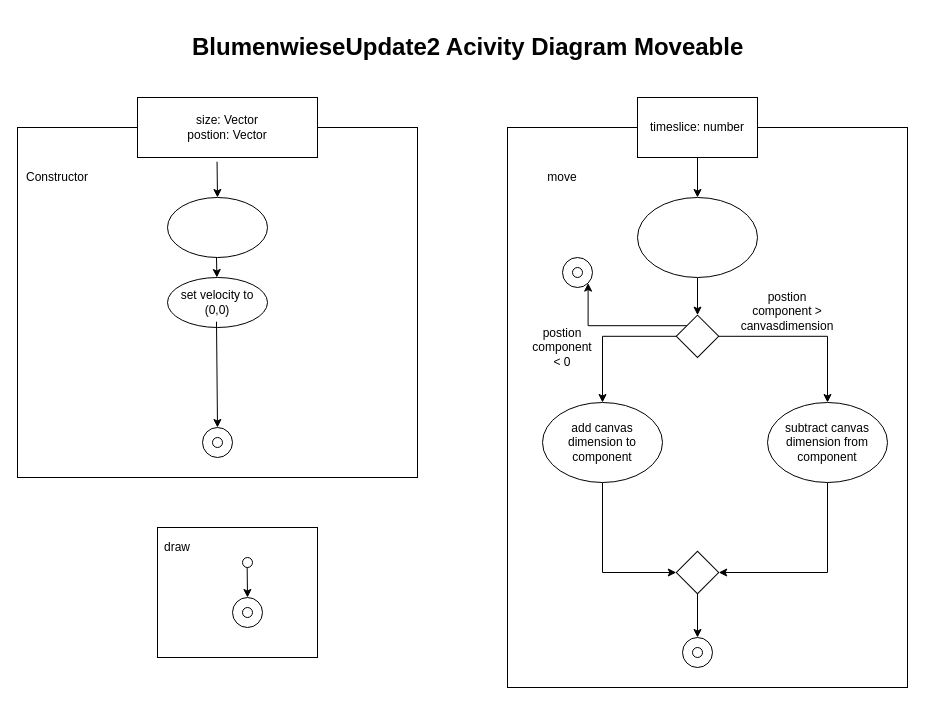
Image size: 925x705. Some labels were removed from this diagram. Each missing label, with the centre of its shape:
add velocity * timeslice to positon: [697,237]
position to _positon or (0,0): [217,227]
